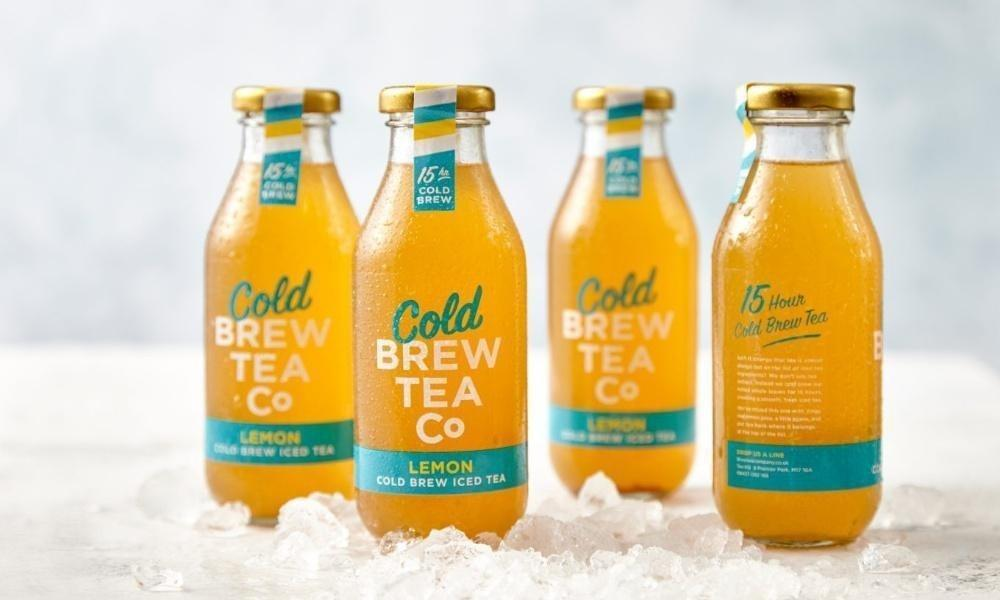bottle-glass: (348, 79, 533, 536), (708, 81, 888, 549), (194, 81, 357, 518), (540, 89, 704, 493)
